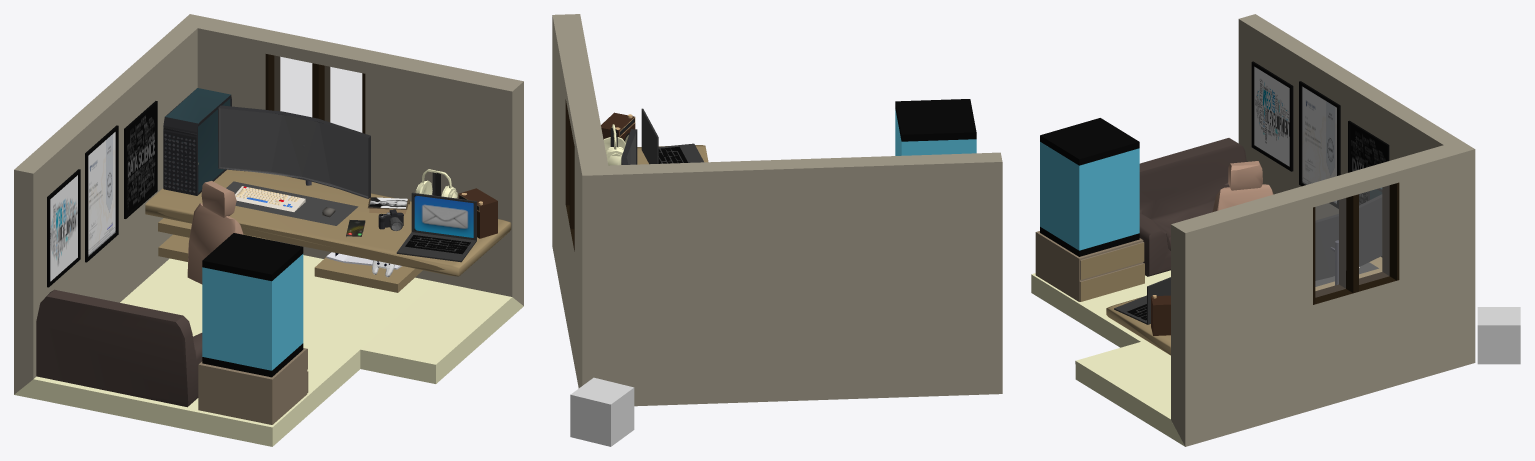
The model's file is FRoom.glb.
3 views of the same model, side by side, from view 1: azimuth 30°, elevation 25°; view 2: azimuth 150°, elevation 25°; view 3: azimuth 270°, elevation 25° (orthographic). The views are drawn at different scales.
Parts seen in each view (by area): view 1: Cube, Cube.005, Cube.010, amir, Cube.015, screen, CPU, Cube.001, Cube.014, Cube.011, speaker, headphones (+1 smaller); view 2: Cube, introcube, Cube.015, Cube.001, amir, speaker, headphones, Cube.010; view 3: Cube, amir, Cube.015, Cube.005, Cube.010, introcube, Cube.014, Cube.001, speaker.
Boxes of the visible parts, left/top/right/bottom form: Cube: left=14, top=14, right=523, bottom=446; Cube.005: left=36, top=289, right=202, bottom=407; Cube.010: left=218, top=105, right=370, bottom=198; amir: left=202, top=254, right=303, bottom=370; Cube.015: left=198, top=233, right=308, bottom=424; screen: left=219, top=108, right=367, bottom=197; CPU: left=163, top=88, right=231, bottom=195; Cube.001: left=396, top=192, right=476, bottom=262; Cube.014: left=187, top=181, right=243, bottom=284; Cube.011: left=226, top=181, right=358, bottom=225; speaker: left=458, top=188, right=497, bottom=238; headphones: left=415, top=169, right=457, bottom=198; Cube: left=552, top=14, right=1002, bottom=406; introcube: left=570, top=377, right=634, bottom=446; Cube.015: left=895, top=99, right=976, bottom=141; Cube.001: left=641, top=108, right=703, bottom=164; amir: left=895, top=109, right=976, bottom=155; speaker: left=601, top=112, right=635, bottom=143; headphones: left=603, top=124, right=625, bottom=165; Cube.010: left=621, top=129, right=637, bottom=164; Cube: left=1031, top=14, right=1475, bottom=446; amir: left=1040, top=142, right=1139, bottom=250; Cube.015: left=1035, top=118, right=1144, bottom=301; Cube.005: left=1139, top=138, right=1246, bottom=276; Cube.010: left=1315, top=194, right=1382, bottom=285; introcube: left=1477, top=307, right=1520, bottom=364; Cube.014: left=1212, top=161, right=1273, bottom=212; Cube.001: left=1114, top=277, right=1170, bottom=324; speaker: left=1151, top=295, right=1170, bottom=335.
Bounding box in the file's own units: 9.64 × 4.53 × 9.09.
Materials: 60 (6 with a texture image).
